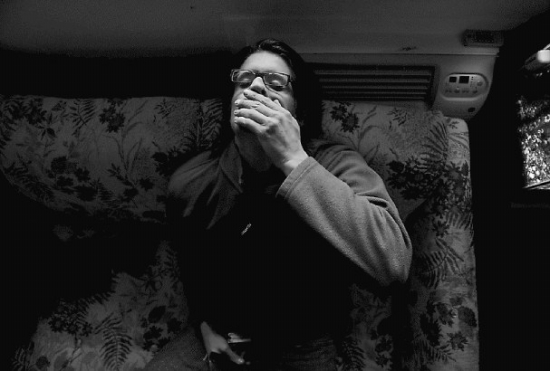face: (233, 60, 292, 134)
